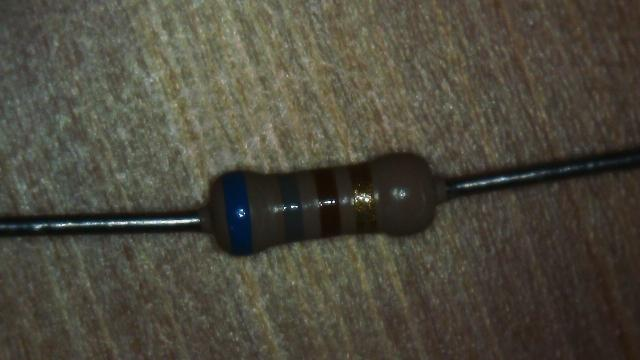blue: (223, 172, 253, 255)
brown: (314, 168, 341, 236)
gold: (350, 164, 376, 232)
grey: (280, 173, 304, 242)
resistor: (189, 118, 466, 279)
